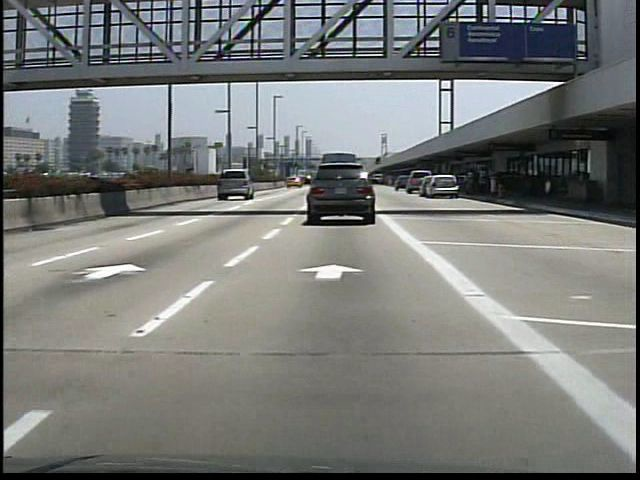person: (474, 162, 489, 198), (462, 166, 476, 199)
